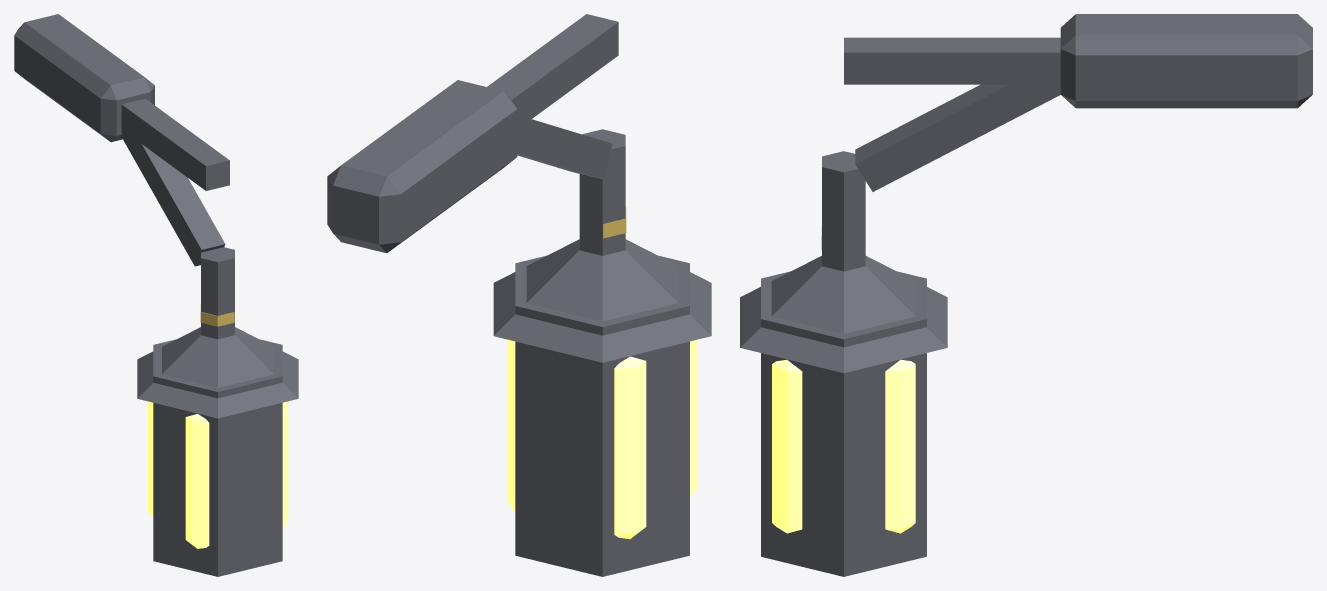
Rendered from fantasy-mmo-city-and-townsfolk-hanging-lantern-5a5e040f__32767.glb.
The picture shows the model from 3 angles, left to right: view 1: azimuth 30°, elevation 25°; view 2: azimuth 150°, elevation 25°; view 3: azimuth 270°, elevation 25°; orthographic projection. The views are drawn at different scales.
Parts seen in each view (by area): view 1: hanging-lantern; view 2: hanging-lantern; view 3: hanging-lantern.
Part boxes in pixels (<box>): hanging-lantern: <box>14,14,298,576</box>; hanging-lantern: <box>327,14,711,576</box>; hanging-lantern: <box>740,14,1312,576</box>.
Size of the model in its own units: 0.475 by 1.12 by 1.14.
